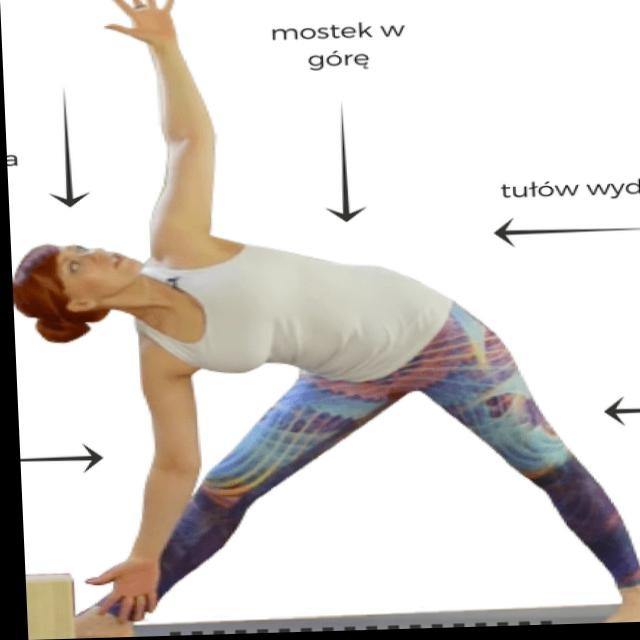Triangle_Pose: (10, 1, 640, 637)
